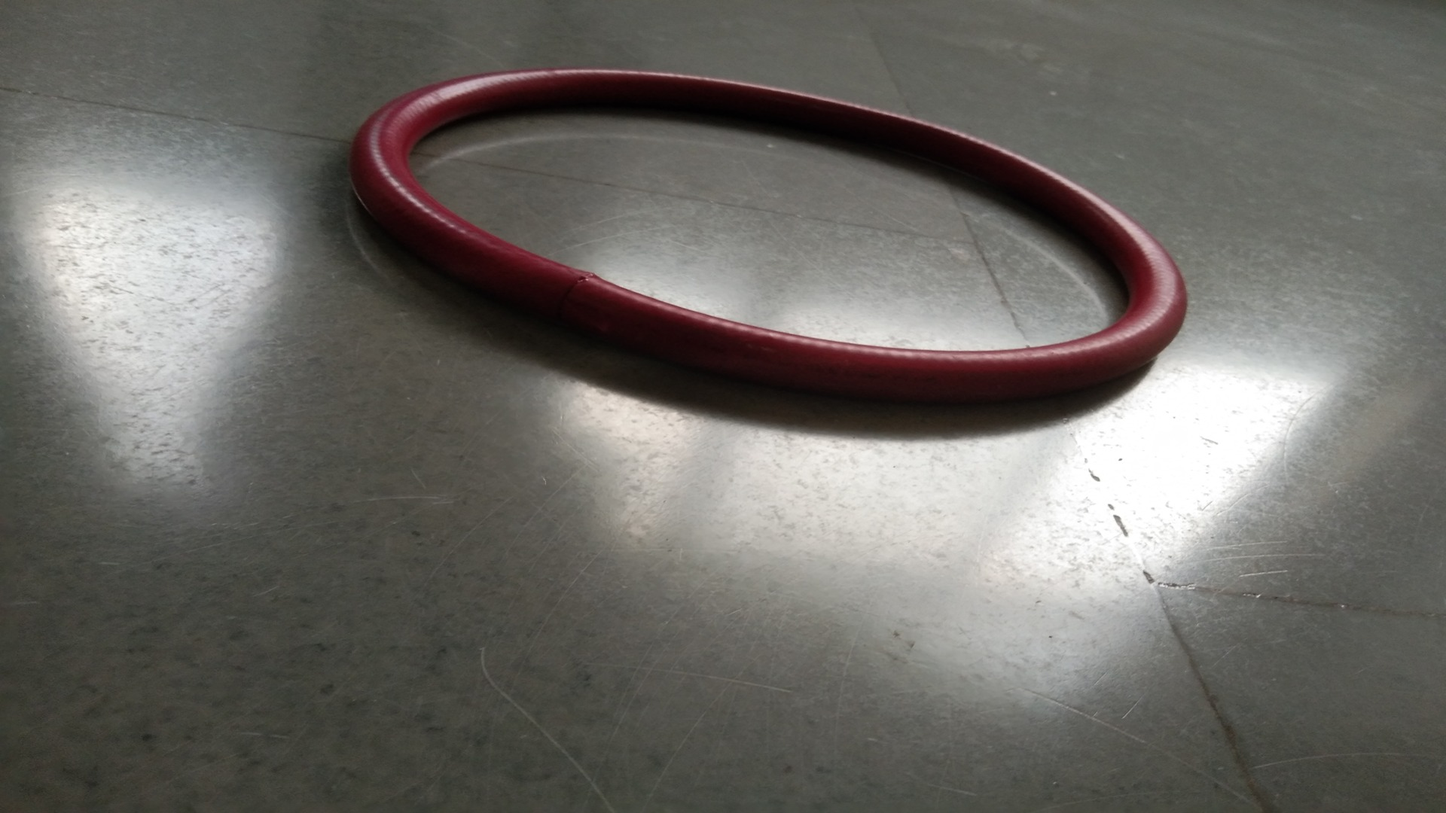Red ring: (355, 69, 1188, 403)
